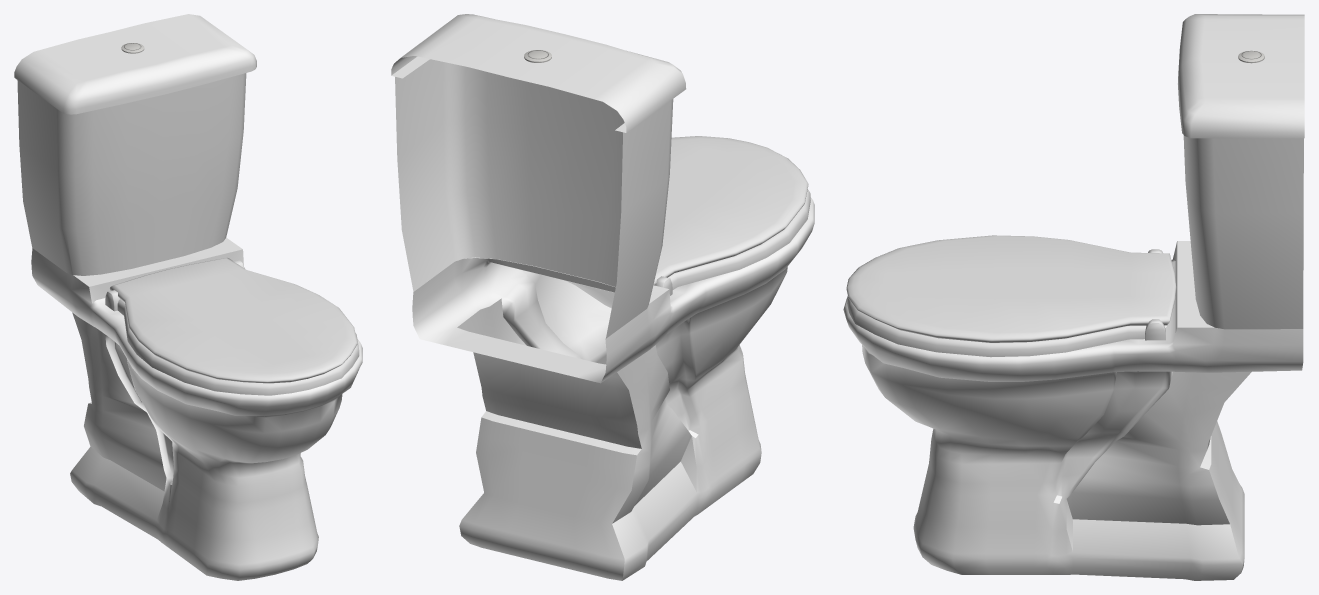
The model's file is Toilet01_2.FBX.
3 renders of one model, left to right at view 1: azimuth 30°, elevation 25°; view 2: azimuth 150°, elevation 25°; view 3: azimuth 270°, elevation 25°, orthographic. The views are drawn at different scales.
Visible parts, largest first — view 1: Toilet01_2, Cover, Seat; view 2: Toilet01_2, Cover, Seat; view 3: Toilet01_2, Cover, Seat.
Part boxes in pixels (left/top/right/bottom): Toilet01_2: left=14, top=14, right=362, bottom=580; Cover: left=110, top=257, right=357, bottom=383; Seat: left=117, top=299, right=359, bottom=395; Toilet01_2: left=391, top=14, right=814, bottom=580; Cover: left=653, top=136, right=808, bottom=285; Seat: left=668, top=189, right=810, bottom=289; Toilet01_2: left=843, top=14, right=1304, bottom=580; Cover: left=846, top=235, right=1176, bottom=342; Seat: left=847, top=296, right=1166, bottom=357.
Size of the model in its own units: 53.59 by 111 by 94.68.
